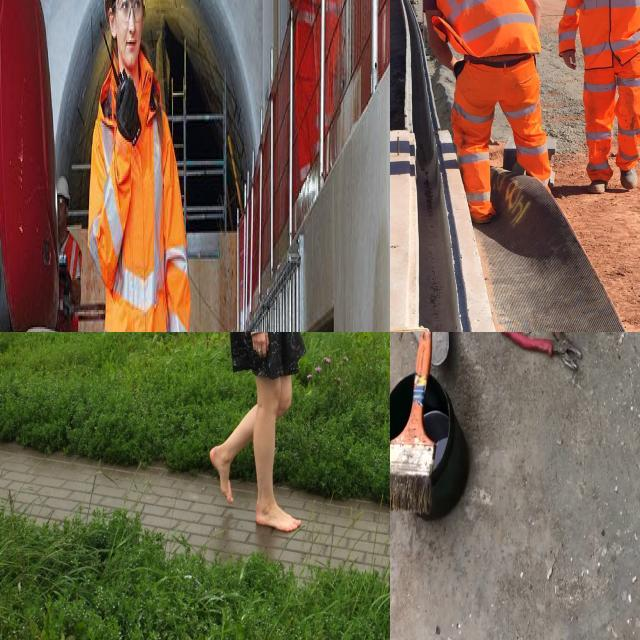Barefoots: (210, 446, 233, 504), (256, 505, 301, 532)
face_nomask: (111, 0, 147, 68)
glasses: (110, 0, 145, 30)
hand_glove: (109, 70, 141, 152)
hand_noglove: (559, 42, 582, 77)
head_helmet: (56, 178, 70, 202)
person: (92, 0, 188, 332), (423, 0, 559, 222), (563, 0, 640, 196), (282, 0, 318, 177), (55, 179, 83, 332), (317, 0, 340, 161)
vest: (91, 66, 191, 332), (432, 0, 540, 61), (576, 0, 640, 71)
